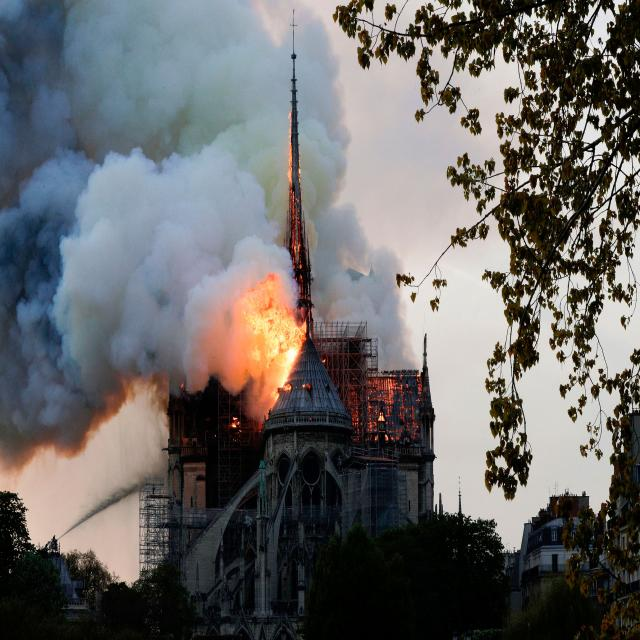smoke: (18, 13, 247, 354)
